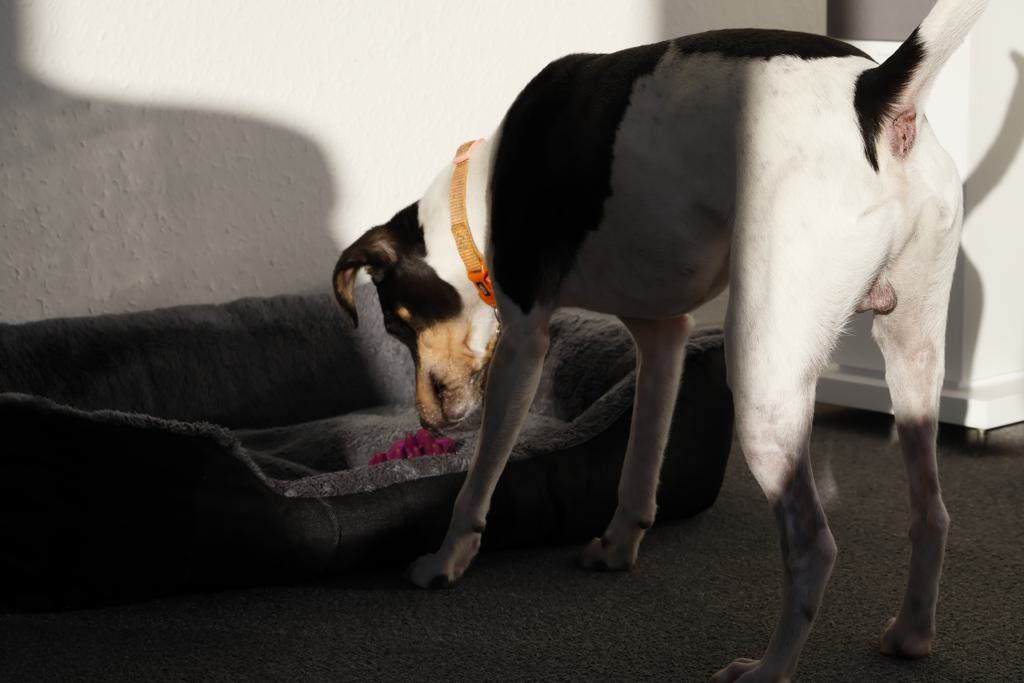Dog: (326, 0, 994, 683)
